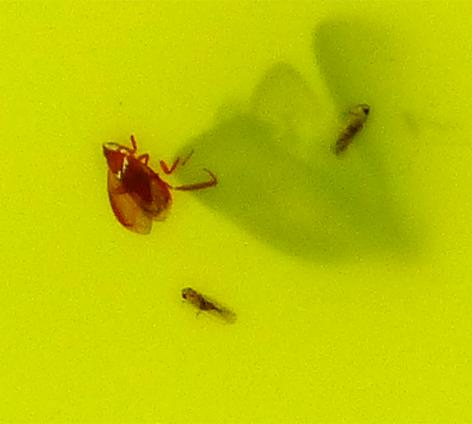Hemiptera: (100, 134, 173, 235), (329, 100, 372, 158), (179, 285, 237, 324)
